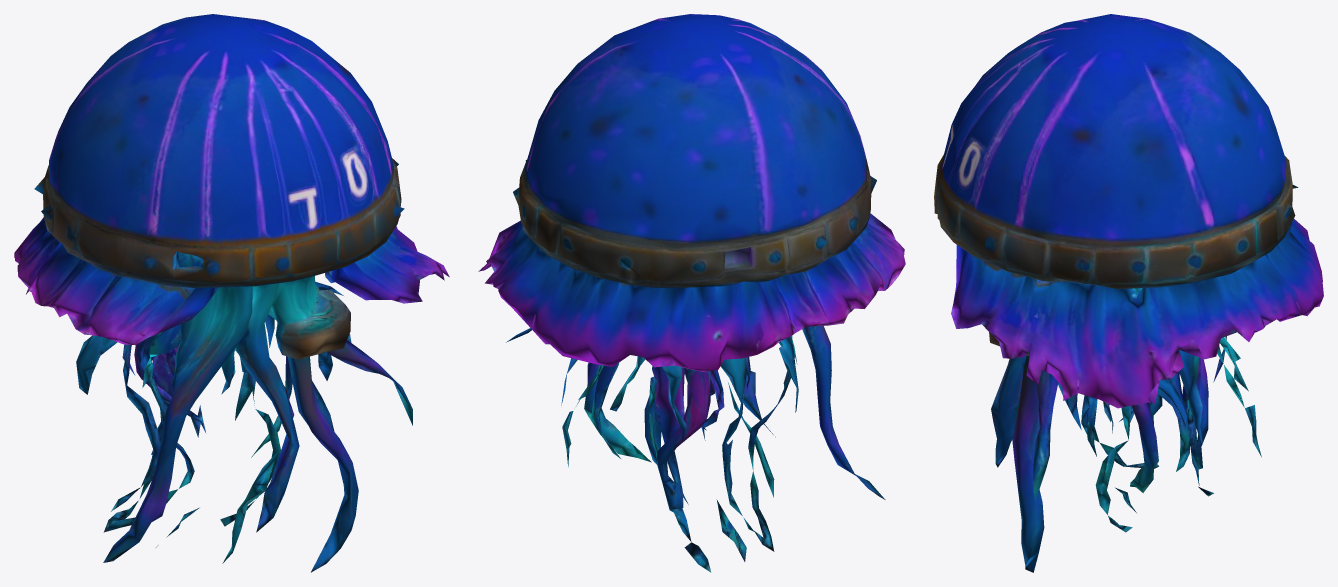
The model's file is Abyssal_Mechajelly_1116005742_texture.fbx.
3 renders of one model, left to right at view 1: azimuth 30°, elevation 25°; view 2: azimuth 150°, elevation 25°; view 3: azimuth 270°, elevation 25°, orthographic.
Parts seen in each view (by area): view 1: Mesh1.0; view 2: Mesh1.0; view 3: Mesh1.0.
Boxes of the visible parts, left/top/right/bottom form: Mesh1.0: left=14, top=14, right=449, bottom=572; Mesh1.0: left=478, top=14, right=905, bottom=572; Mesh1.0: left=934, top=14, right=1323, bottom=572.
Size of the model in its own units: 144 by 190 by 130.
Materials: 1 (1 with a texture image).
